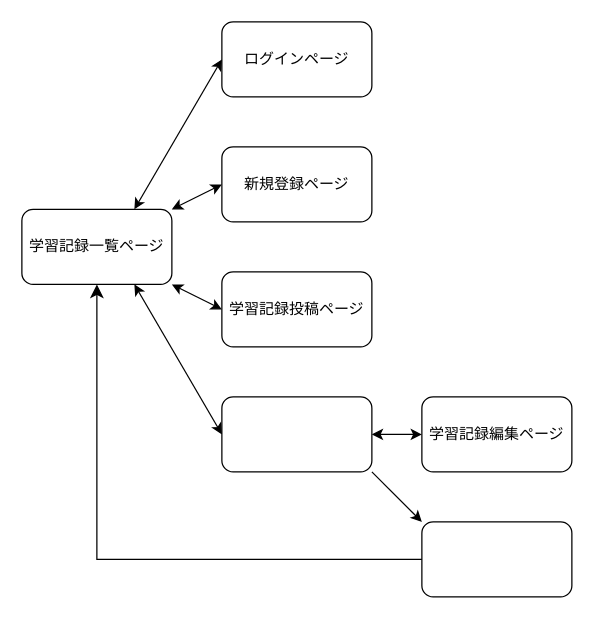
Some shapes in this 594 by 619 pixel diagram are drawn without their labels. Each missing label, with the box of its shape:
学習記録削除: (421, 521, 572, 597)
学習記録詳細ページ 復習ステータス 通知: (221, 396, 372, 472)
